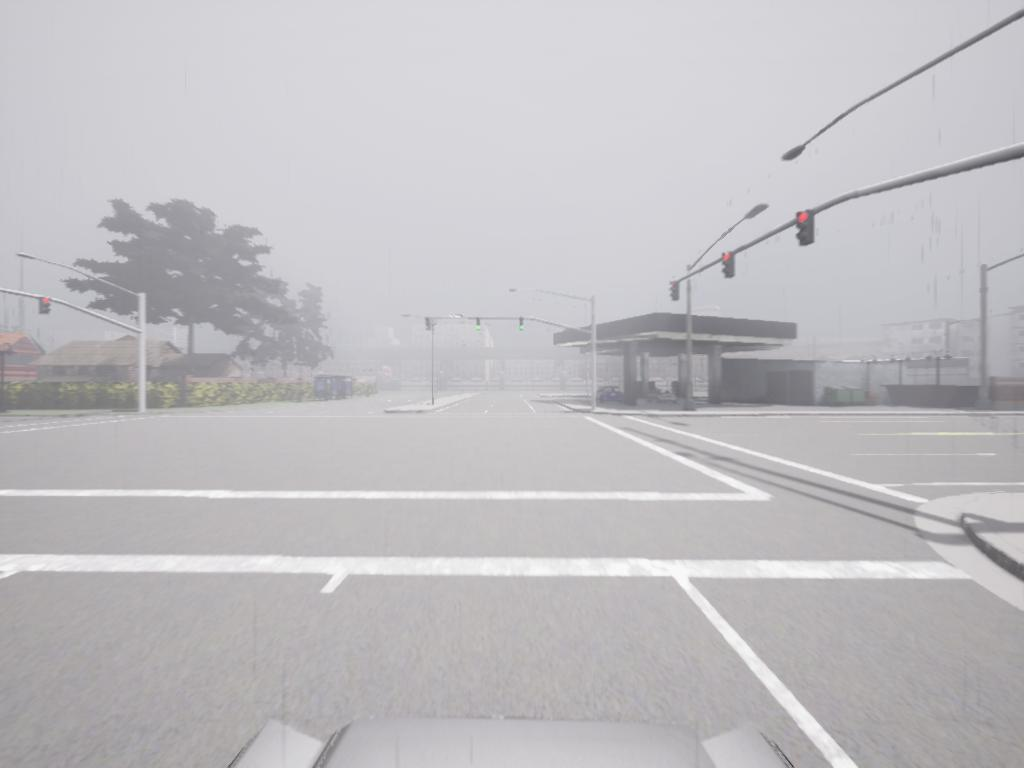traffic_light: (795, 210, 816, 246), (723, 255, 738, 280), (669, 282, 680, 302), (41, 297, 52, 314), (426, 318, 433, 334), (520, 318, 526, 333), (476, 318, 481, 333)
